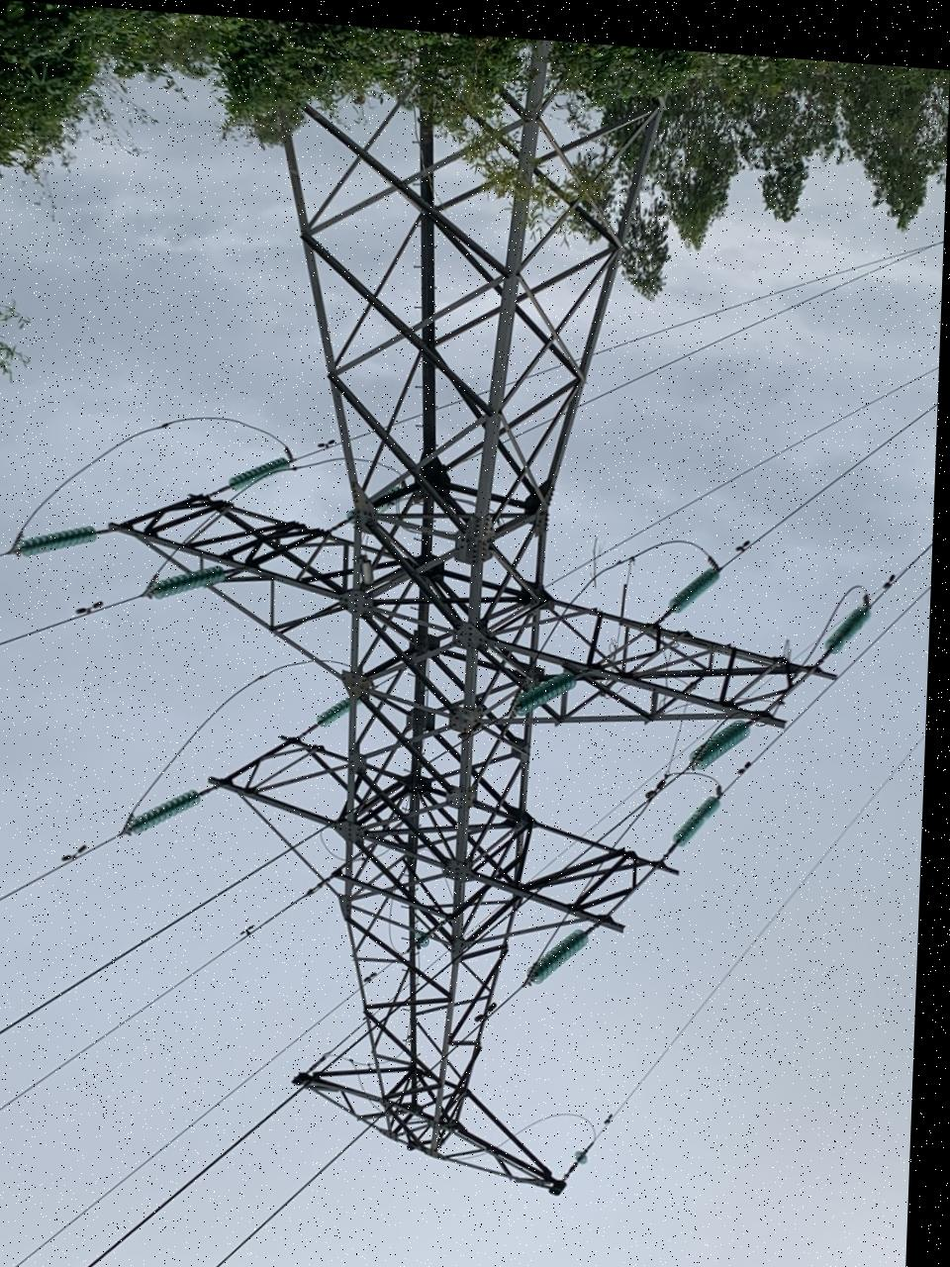tower: (84, 14, 874, 1229)
